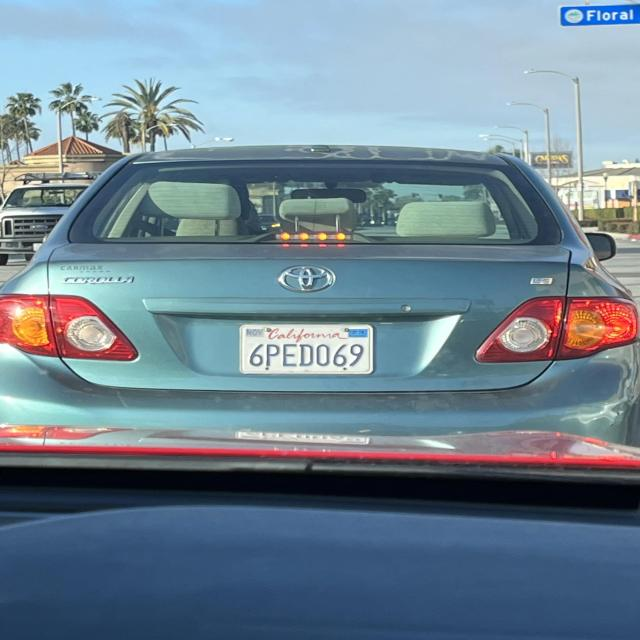license: (222, 321, 390, 387)
